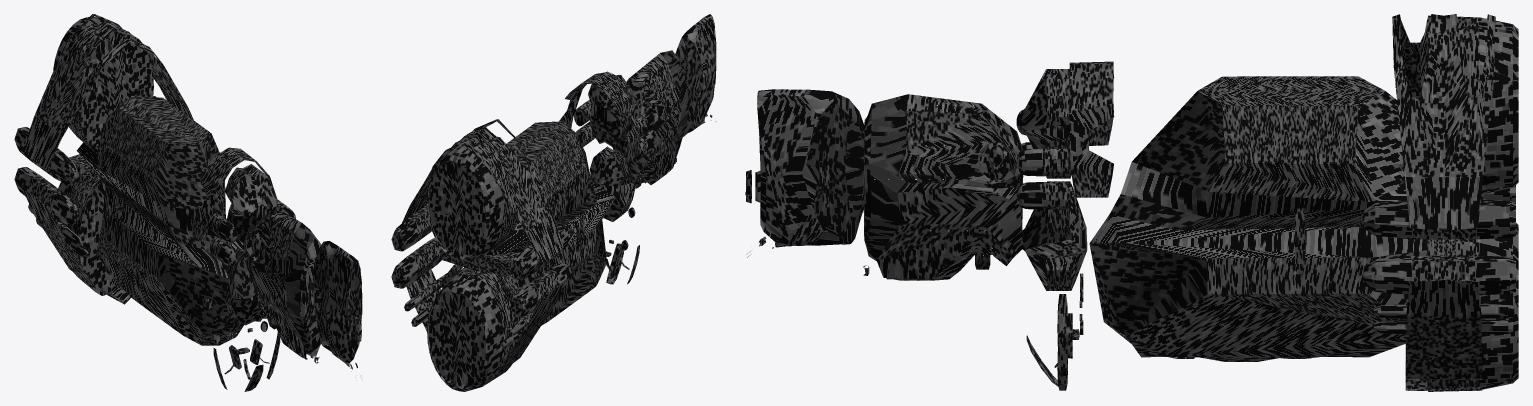
The model's file is Enemy MotherShip - UNSC.glb.
The picture shows the model from 3 angles, left to right: view 1: azimuth 30°, elevation 25°; view 2: azimuth 150°, elevation 25°; view 3: azimuth 270°, elevation 25°; orthographic projection. The views are drawn at different scales.
Visible parts, largest first — view 1: PillarOfAutumn; view 2: PillarOfAutumn; view 3: PillarOfAutumn.
Boxes of the visible parts, x1=… form: PillarOfAutumn: x1=14, y1=14, x2=362, y2=391; PillarOfAutumn: x1=391, y1=14, x2=716, y2=391; PillarOfAutumn: x1=745, y1=14, x2=1518, y2=391.
Bounding box in the file's own units: 0.9225 × 1.55 × 2.87.
4 materials, 2 textured.
